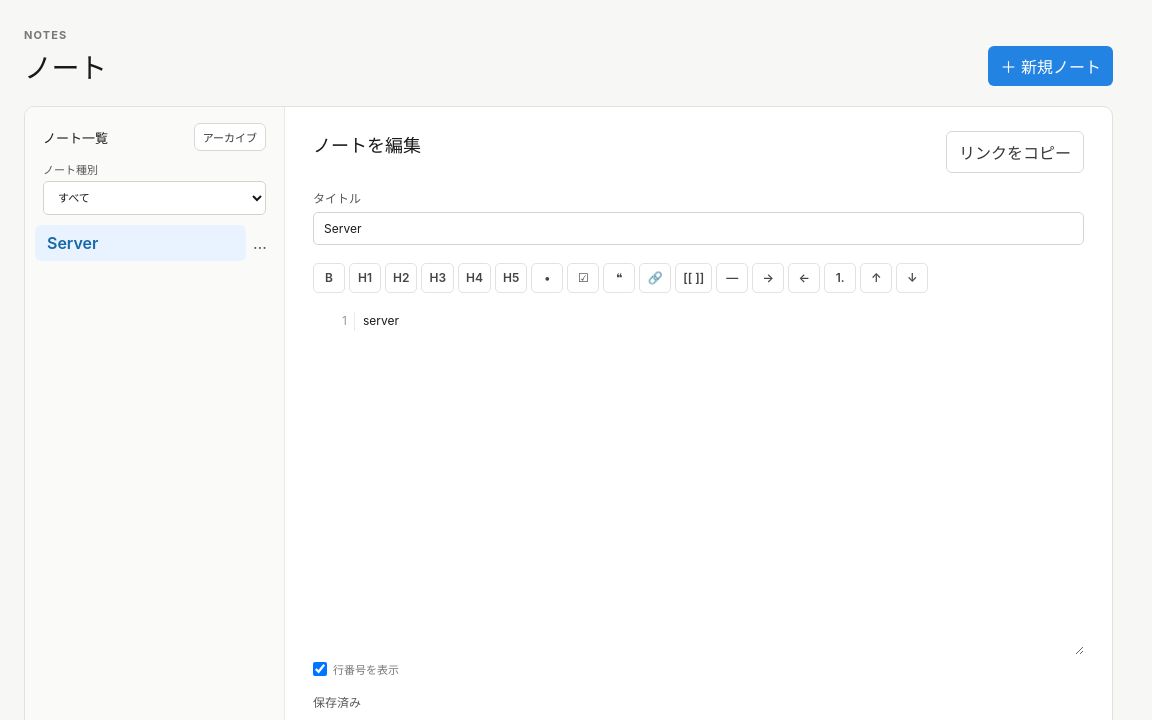
Test: NotesBoard › preserves the local draft after a revision conflict and exposes canonical state
Replace the text in the field named "ノートタイトル" with "Local" at [698, 228], box [313,212,1084,245]
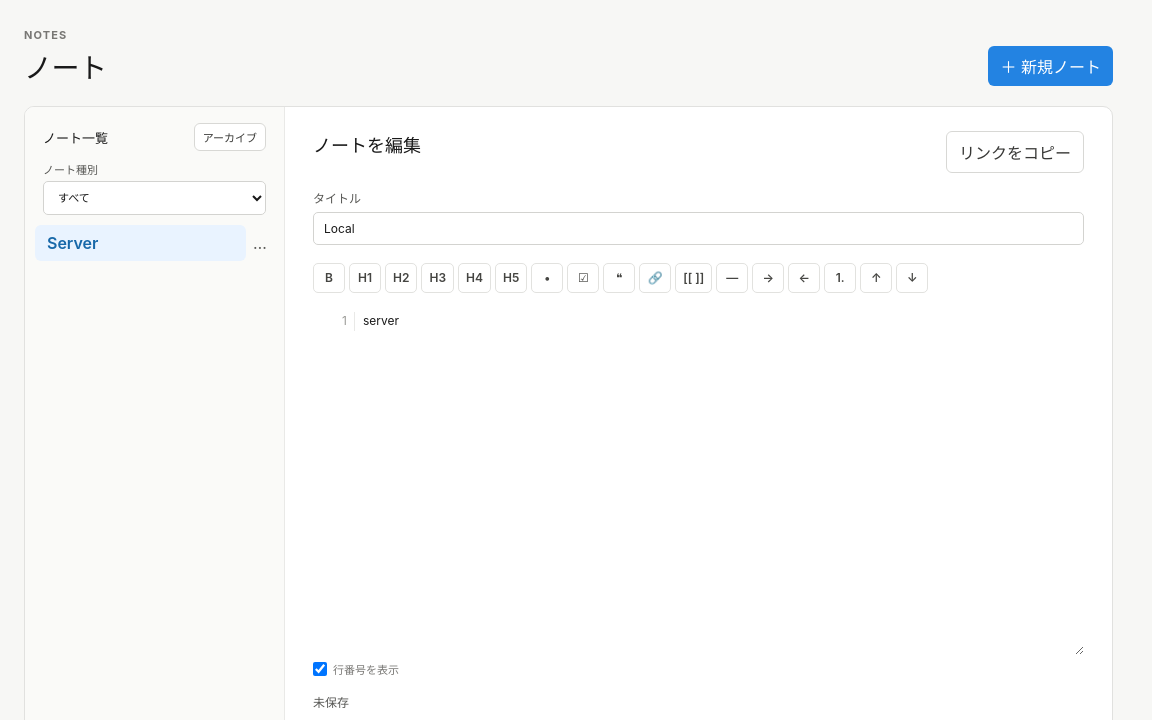
Press s in the field named "ノートタイトル", box [313,212,1084,245]
(page scrolled)
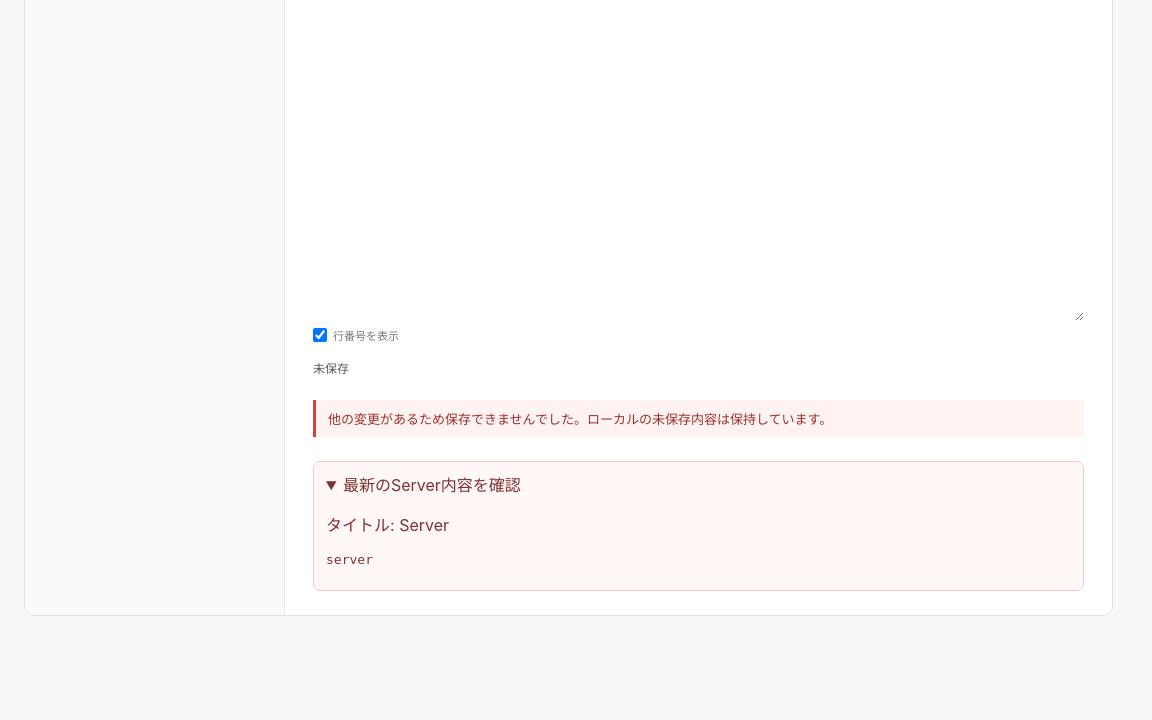
Check: the message "他の変更があるため保存できませんでした。ローカルの未保存内容は保持しています。" is shown, box [313,400,1084,437]
Check: the heading "最新のServer内容を確認" is shown, box [343,475,521,495]
